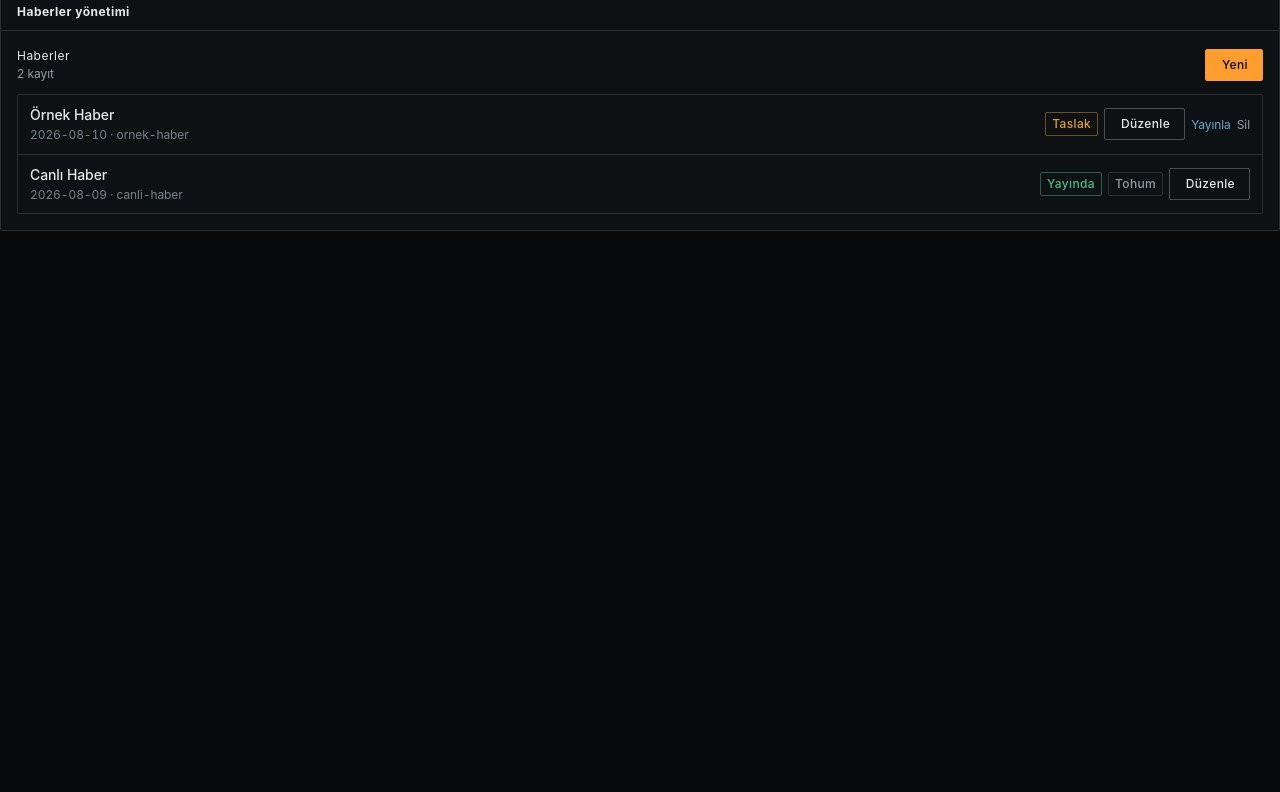
Test: ContentControl importer akışı › importer mevcut içerik düzenlemede görünmez
Click the button with aria-label "Düzenle Örnek Haber 2026-08-10 · ornek-haber": (1145, 124) [1104,108,1185,140]
(page scrolled)
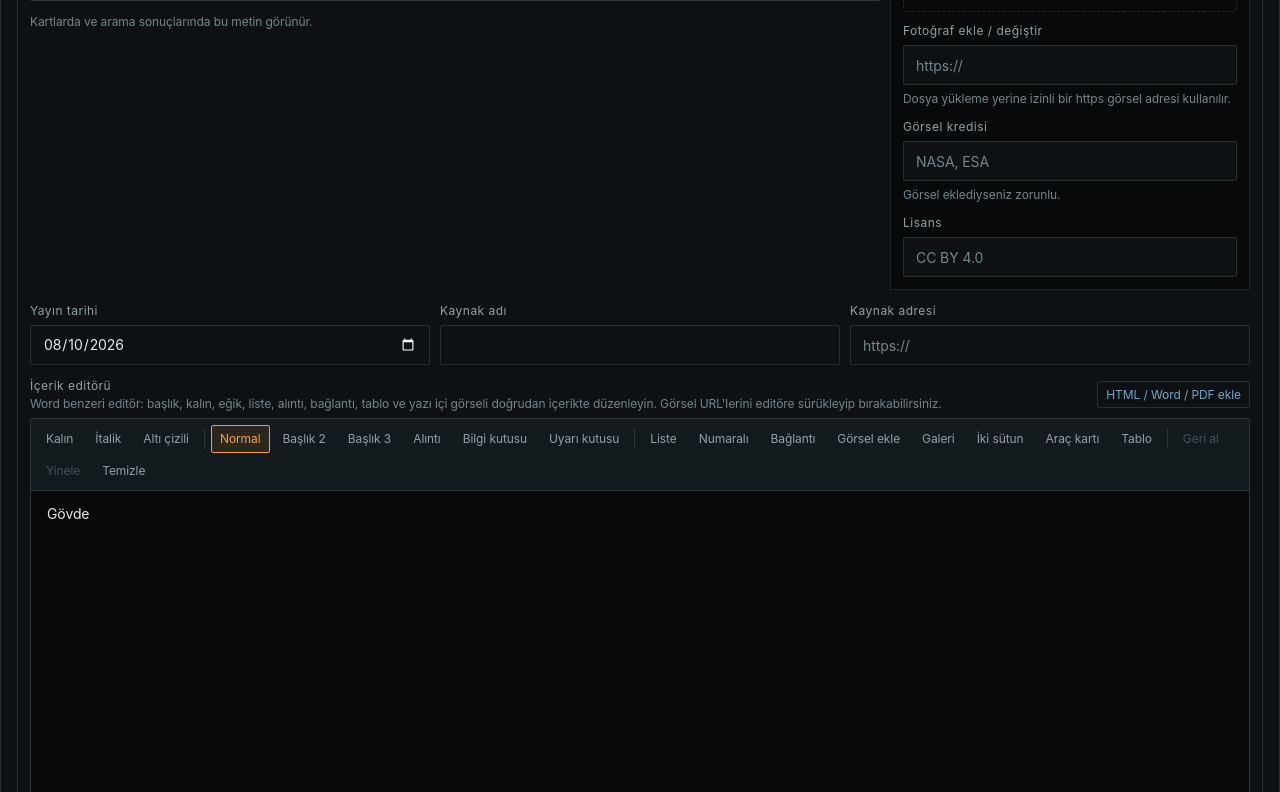
Check: the text "İçerik editörü" is shown, box [30,378,111,393]
Check: the text "Fotoğraf ekle / değiştir" is shown, box [903,23,1043,38]
Check: the button "Görsel ekle" is shown, box [828,425,909,453]
